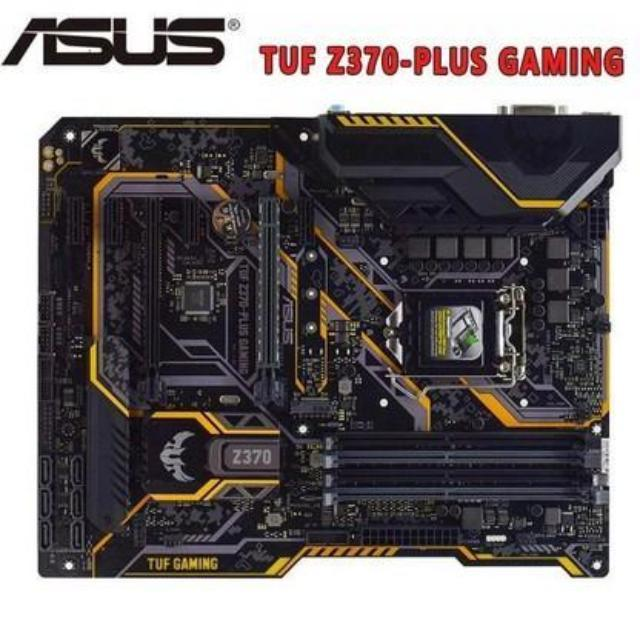Mainboard: (26, 91, 620, 600)
